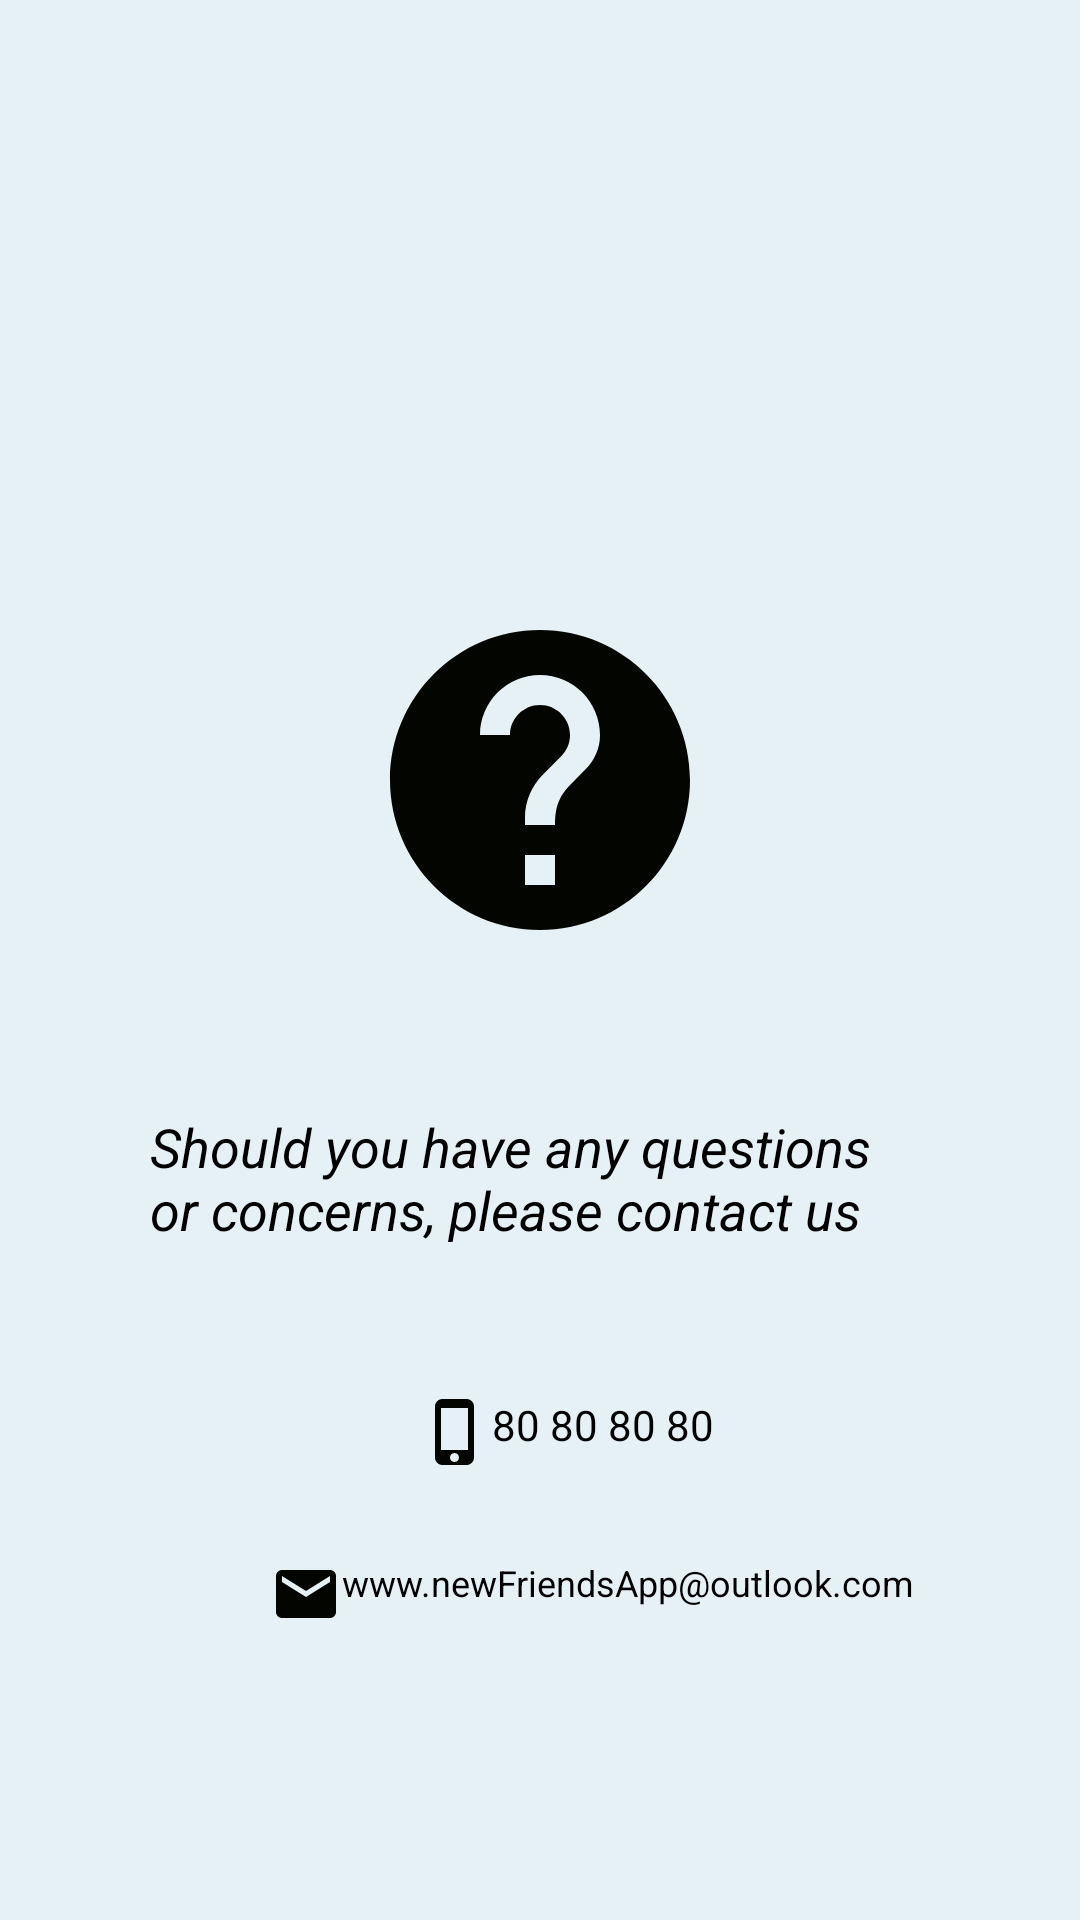

Locate icon controls on the screen. Image size 1080x1920, boxes as [x1,y1,x2,y2].
help: [390,630,690,930]
